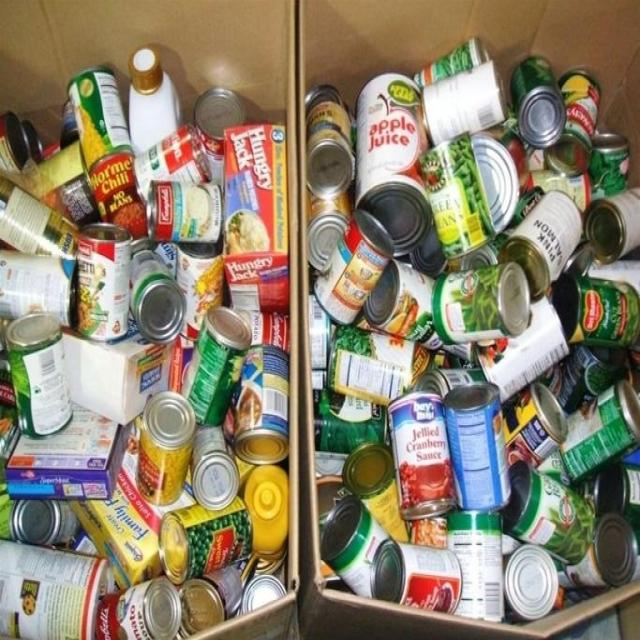can: (306, 9, 640, 626), (8, 11, 286, 626)
